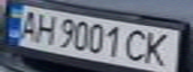0: (69, 18, 90, 52), (87, 20, 106, 55)
1: (103, 24, 124, 58)
9: (54, 16, 78, 50)
A: (15, 7, 42, 42)
C: (121, 27, 151, 64)
H: (30, 11, 60, 45)
K: (139, 29, 178, 69)
